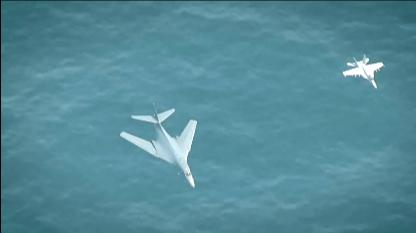AV8B: (118, 102, 196, 188)
F15: (340, 54, 384, 88)
